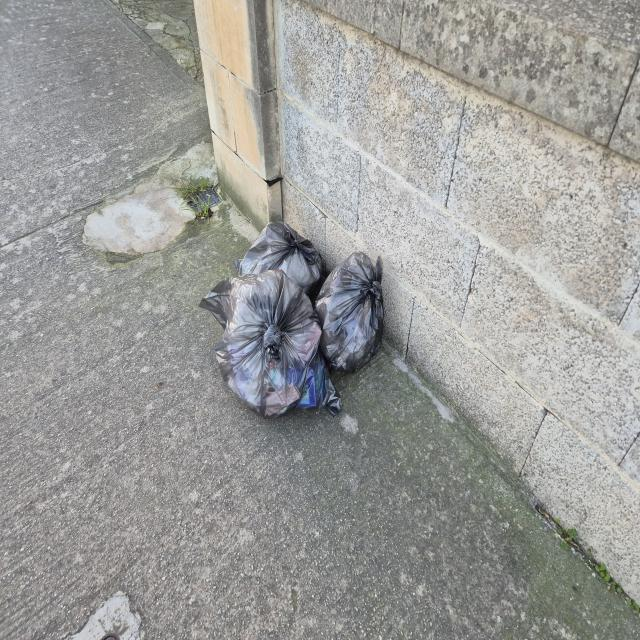black_bag: (211, 278, 323, 420), (324, 255, 400, 389), (230, 211, 329, 300)
